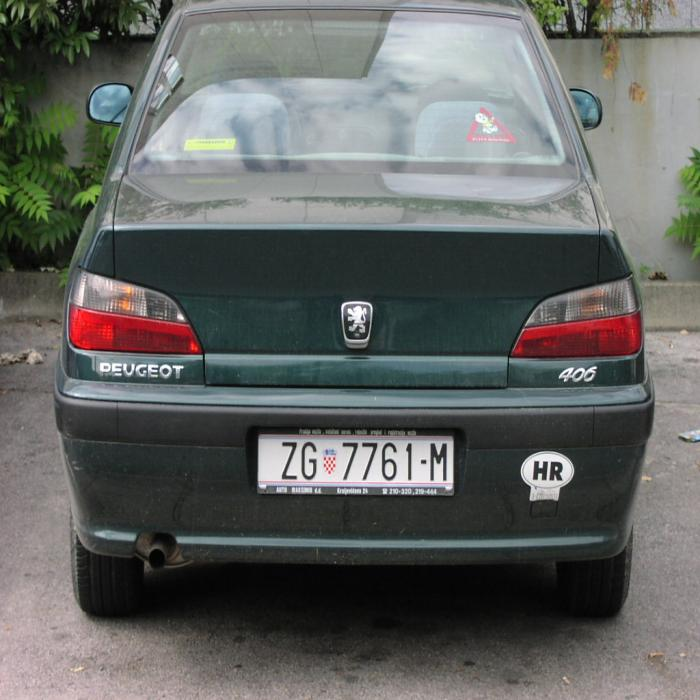number_plate: (257, 436, 452, 486)
